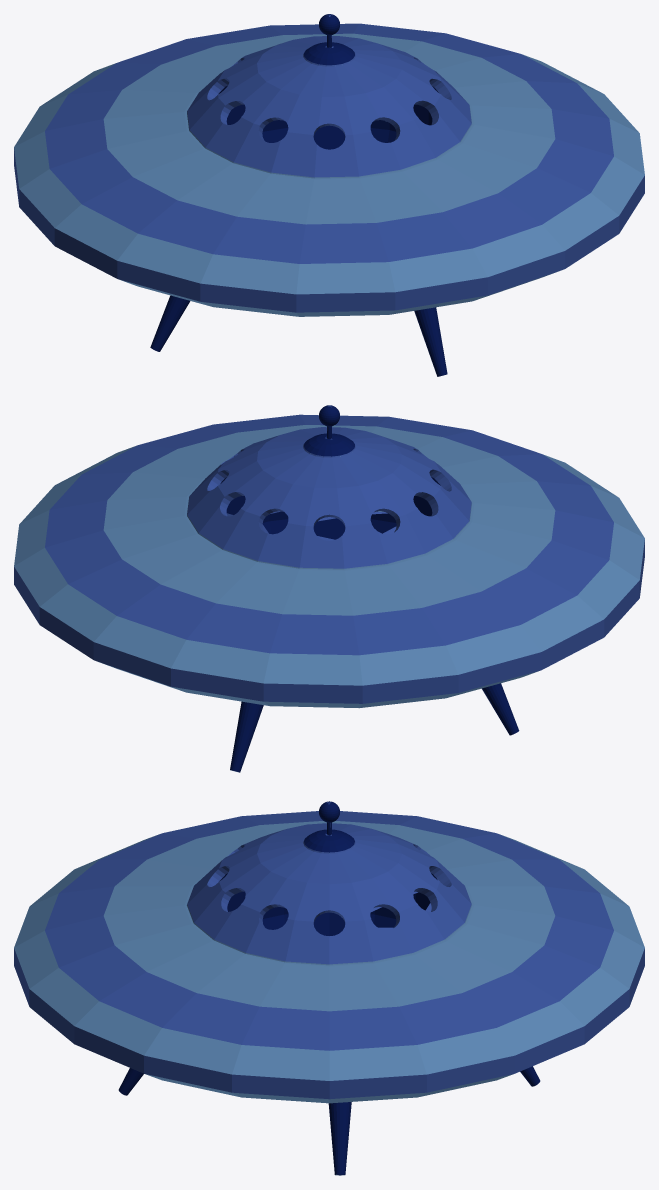
The model's file is tarelka.fbx.
The picture shows the model from 3 angles, top to bottom: view 1: azimuth 30°, elevation 25°; view 2: azimuth 150°, elevation 25°; view 3: azimuth 270°, elevation 25°; orthographic projection.
Visible parts, largest first — view 1: UFO; view 2: UFO; view 3: UFO.
Boxes of the visible parts, bbox=[...] form: UFO: bbox=[14, 14, 644, 376]; UFO: bbox=[14, 405, 644, 772]; UFO: bbox=[14, 801, 644, 1175].
Size of the model in its own units: 1397 by 703 by 1397.
